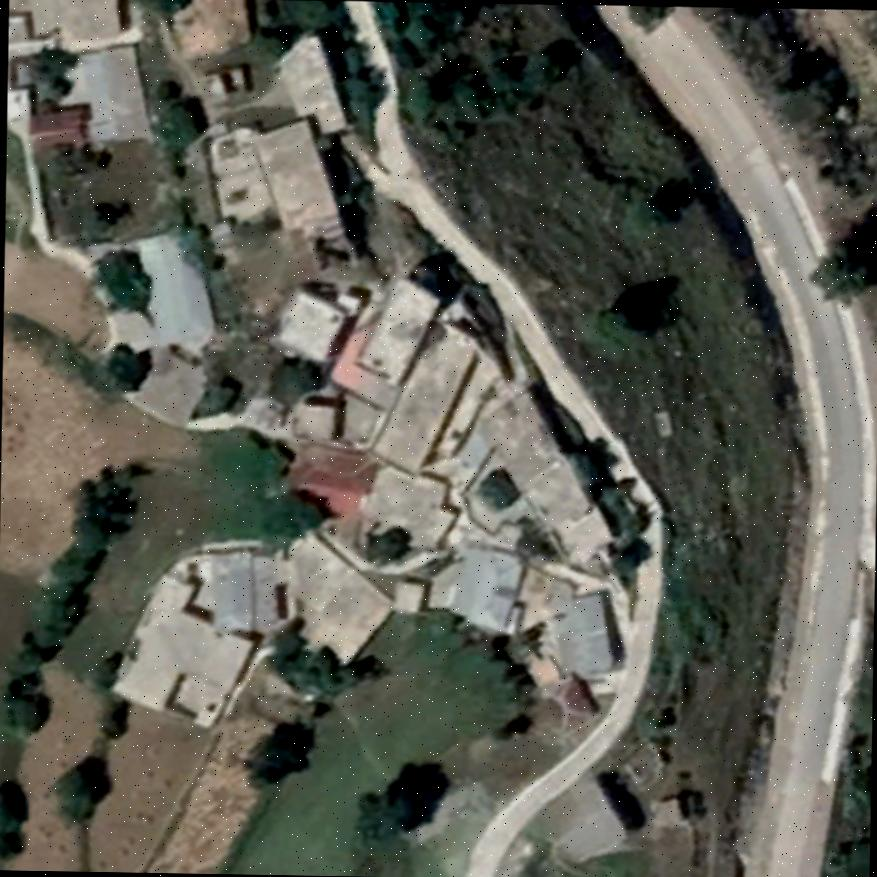Solarpanel: (273, 581, 288, 619)
